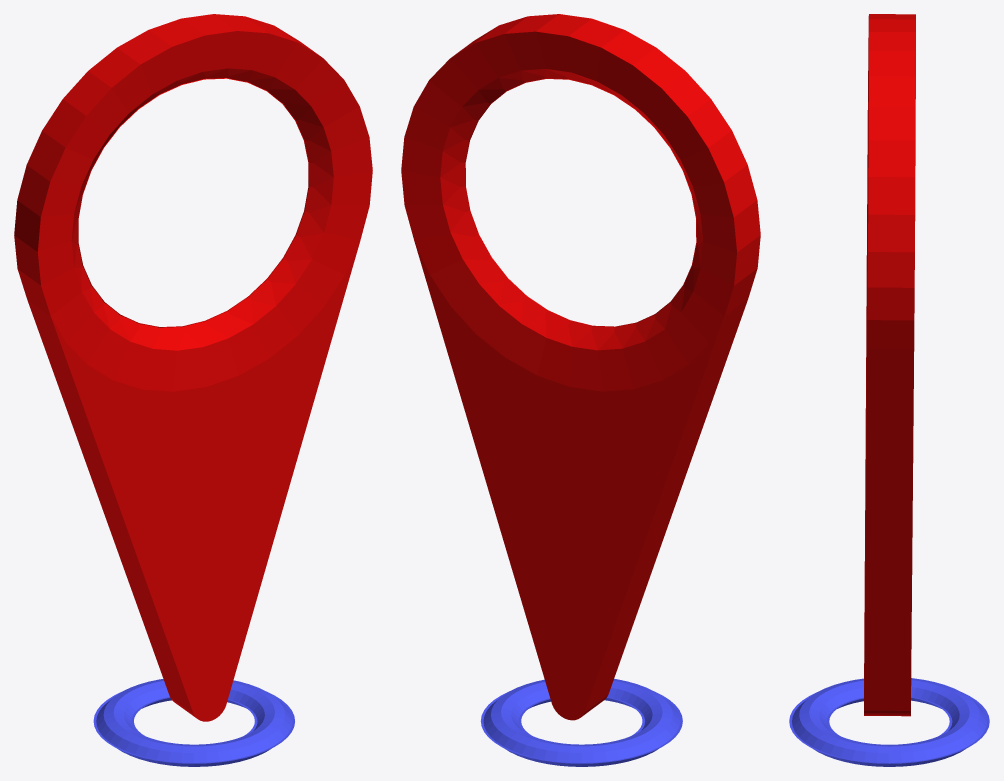
File: Location.fbx
3 renders of one model, left to right at view 1: azimuth 30°, elevation 25°; view 2: azimuth 150°, elevation 25°; view 3: azimuth 270°, elevation 25°, orthographic.
Visible parts, largest first — view 1: markerPoint1; view 2: markerPoint1; view 3: markerPoint1.
Boxes of the visible parts, x1=… form: markerPoint1: x1=14, y1=14, x2=372, y2=766; markerPoint1: x1=401, y1=14, x2=760, y2=766; markerPoint1: x1=789, y1=14, x2=989, y2=766.
Bounding box in the file's own units: 231 × 463 × 120.
